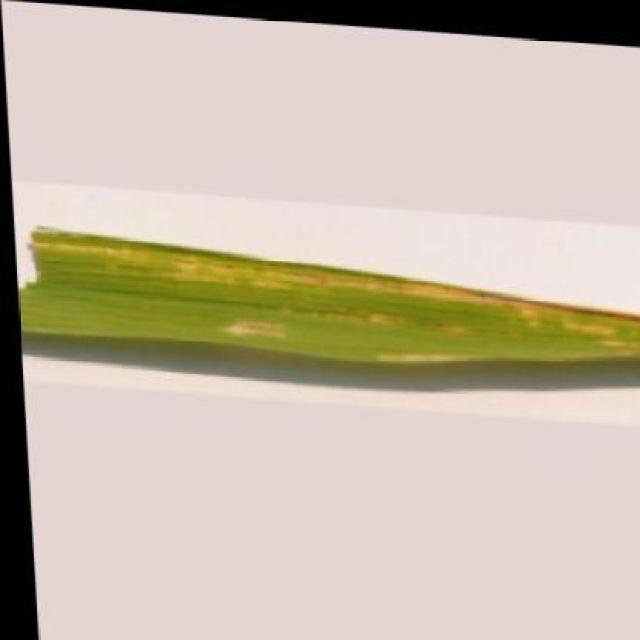Brown_Spot: (9, 224, 640, 378)
